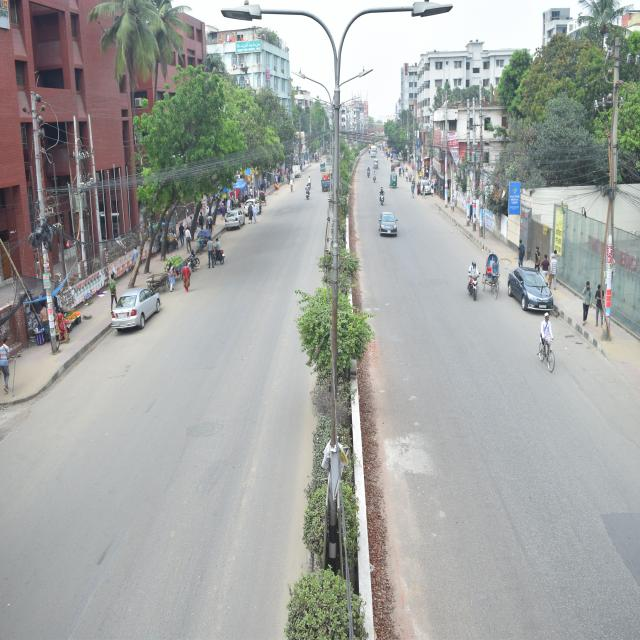bus: (370, 140, 378, 160)
car: (499, 252, 561, 328), (100, 275, 171, 340), (377, 205, 402, 252), (416, 174, 442, 210), (241, 184, 265, 223), (227, 197, 249, 237)
motorbike: (458, 245, 483, 314), (206, 224, 228, 278), (371, 179, 387, 207), (300, 177, 312, 212), (364, 160, 372, 181)
truck: (319, 168, 335, 202)
